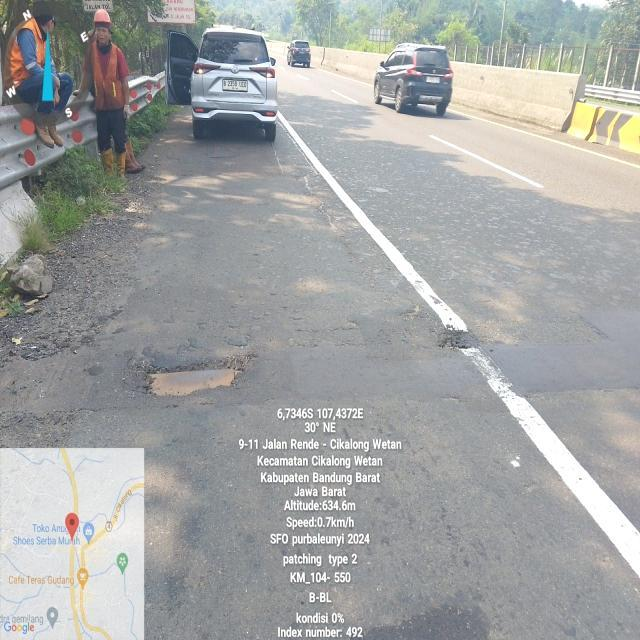Buraco: (134, 353, 253, 401)
